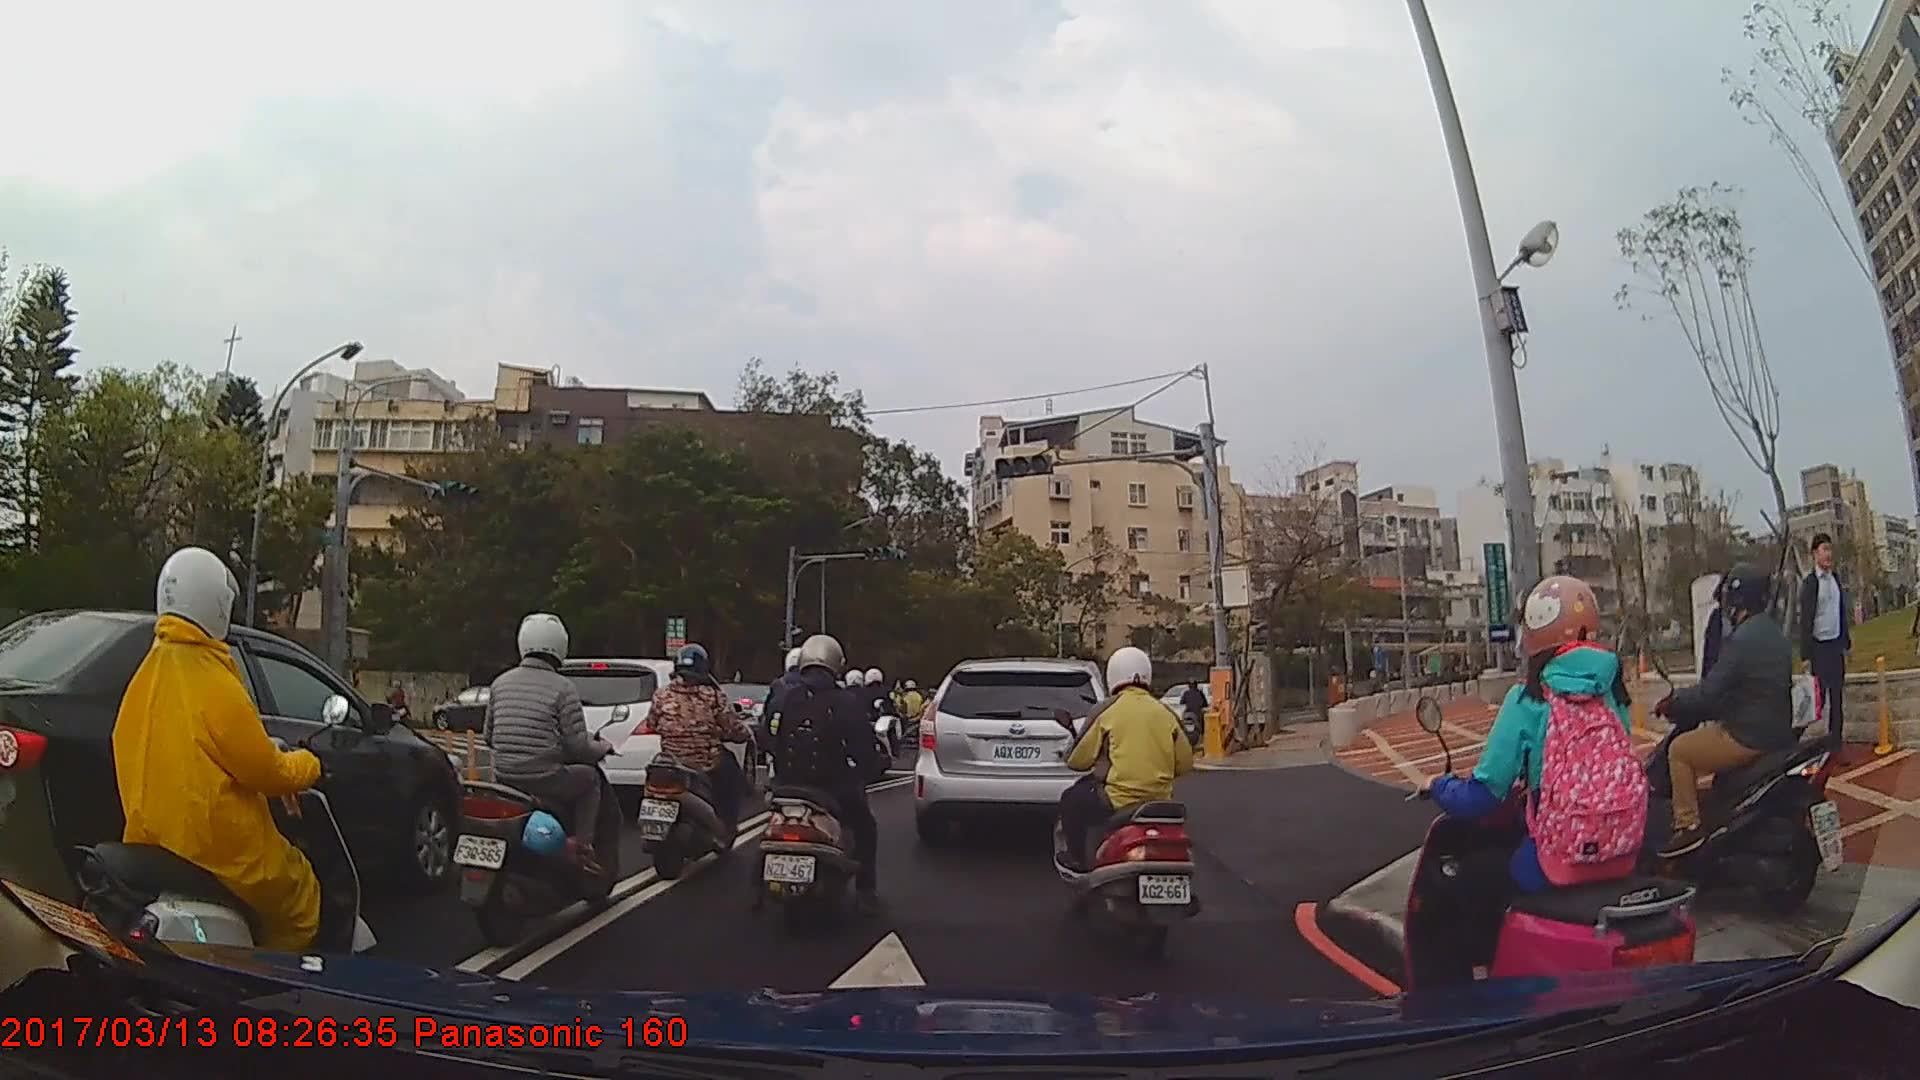pedestrian: (1791, 530, 1855, 768)
rider: (71, 544, 378, 1015), (1394, 574, 1708, 1034), (1633, 564, 1823, 911), (452, 607, 619, 952), (1051, 643, 1206, 958), (757, 634, 891, 938), (634, 642, 760, 878), (887, 677, 927, 744), (1180, 677, 1211, 745)
vehicle: (0, 606, 465, 933), (907, 658, 1129, 842), (519, 656, 755, 817), (432, 684, 536, 732)
